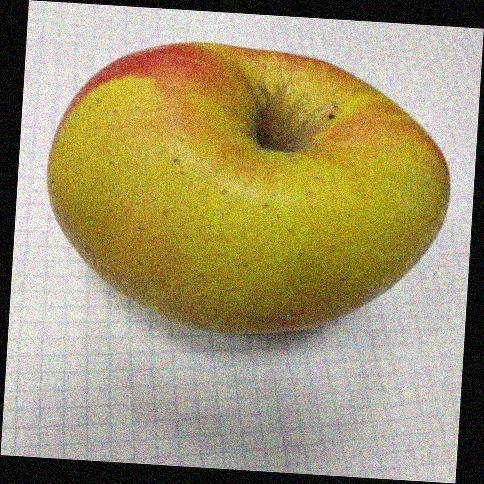green apple: (40, 43, 440, 348)
